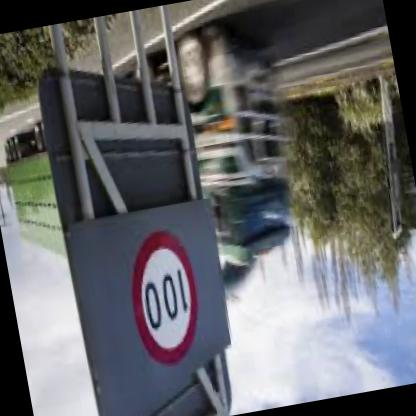speedlimit: (122, 231, 210, 372)
